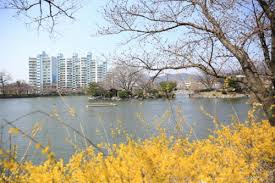flower: (11, 132, 272, 181)
tree: (115, 7, 275, 150)
